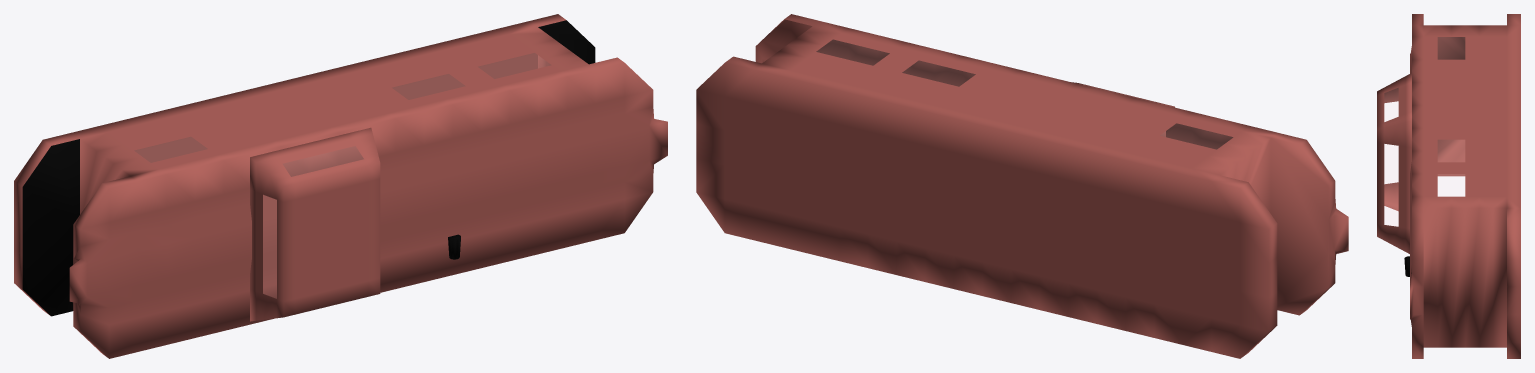
File: asset37.glb
The picture shows the model from 3 angles, left to right: view 1: azimuth 30°, elevation 25°; view 2: azimuth 150°, elevation 25°; view 3: azimuth 270°, elevation 25°; orthographic projection. The views are drawn at different scales.
Parts seen in each view (by area): view 1: Cube1, Cylinder2; view 2: Cube1; view 3: Cube1, Cylinder2.
Boxes of the visible parts, <box> form: Cube1: <box>14,14,667,358</box>; Cylinder2: <box>250,127,380,321</box>; Cube1: <box>696,14,1348,358</box>; Cube1: <box>1410,14,1520,358</box>; Cylinder2: <box>1377,73,1411,253</box>.
Size of what is drawn, in the model's own units: 1.03 by 0.28 by 0.2616.
